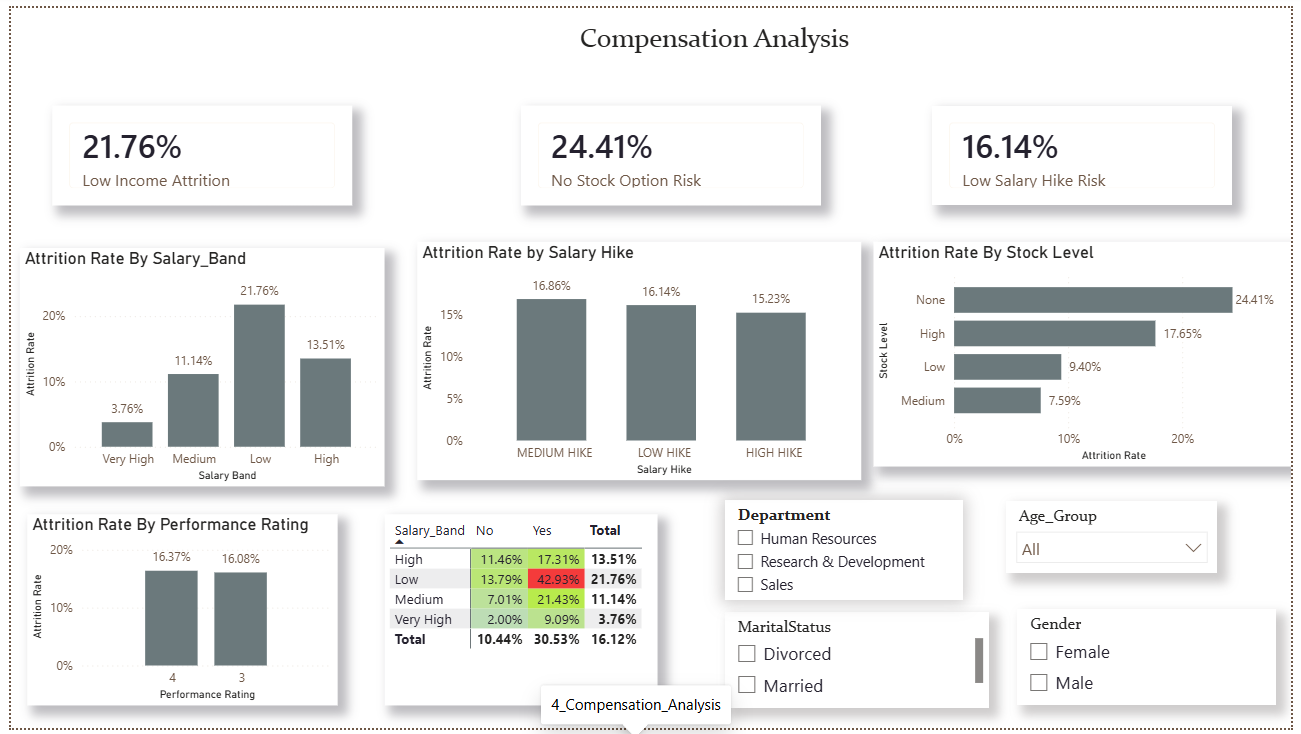

Layout of this report page (visuals, bound fields, positions):
{"tool":"powerbi","page":{"name":"4_Compensation_Analysis","canvas":[1280,720],"ordinal":3},"visuals":[{"type":"cardVisual","fields":{"Data":["Fact_Attrition.Low Income Attrition"]},"box":[41.2,97.5,300,100],"z":0},{"type":"cardVisual","fields":{"Data":["Fact_Attrition.No Stock Option Risk"]},"box":[510,97.5,300,100],"z":1000},{"type":"cardVisual","fields":{"Data":["Fact_Attrition.Low Salary Hike Risk"]},"box":[921.2,97.5,300,100],"z":2000},{"type":"clusteredColumnChart","title":"Attrition Rate By Salary_Band","fields":{"Category":["Dim_Compensation.Salary_Band"],"Y":["Fact_Attrition.Attrition_Rate"]},"box":[8.8,240,365,238.8],"z":3000},{"type":"clusteredColumnChart","title":"Attrition Rate by Salary Hike","fields":{"Category":["Dim_Compensation.Salary_Hike"],"Y":["Fact_Attrition.Attrition_Rate"]},"box":[406.2,233.8,443.8,238.8],"z":4000},{"type":"clusteredBarChart","title":"Attrition Rate By Stock Level","fields":{"Category":["Dim_Compensation.StockOption_Level_Name"],"Y":["Fact_Attrition.Attrition_Rate"]},"box":[862.5,233.8,417.5,225],"z":5000},{"type":"pivotTable","fields":{"Rows":["Dim_Compensation.Salary_Band"],"Columns":["Dim_Job.OverTime"],"Values":["Fact_Attrition.Attrition_Rate"]},"box":[373.8,506.2,272.5,191.2],"z":6000},{"type":"columnChart","title":"Attrition Rate By Performance Rating","fields":{"Category":["Dim_Compensation.PerformanceRating"],"Y":["Fact_Attrition.Attrition_Rate"]},"box":[16.2,506.2,310,191.2],"z":7000},{"type":"slicer","fields":{"Values":["Dim_Job.Department"]},"box":[713.8,492.5,238.8,100],"z":8000},{"type":"slicer","fields":{"Values":["Dim_Employee.Gender"]},"box":[1006.2,601.2,258.8,96.2],"z":9000},{"type":"slicer","fields":{"Values":["Dim_Employee.Age_Group"]},"box":[995,492.5,211.2,72.5],"z":10000},{"type":"slicer","fields":{"Values":["Dim_Employee.MaritalStatus"]},"box":[713.8,603.8,263.8,96.2],"z":11000},{"type":"textbox","box":[563.8,8.8,321.2,45],"z":12000}]}

Visuals, with their boxes in screenshot pixels (x1, y1, x2, y2), scaled from the page's 1280x720 canvas onto the 1301x734 screenshot:
cardVisual - Fact_Attrition.Low Income Attrition: <bbox>42, 99, 347, 201</bbox>
cardVisual - Fact_Attrition.No Stock Option Risk: <bbox>518, 99, 823, 201</bbox>
cardVisual - Fact_Attrition.Low Salary Hike Risk: <bbox>936, 99, 1241, 201</bbox>
"Attrition Rate By Salary_Band" clusteredColumnChart: <bbox>9, 245, 380, 488</bbox>
"Attrition Rate by Salary Hike" clusteredColumnChart: <bbox>413, 238, 864, 482</bbox>
"Attrition Rate By Stock Level" clusteredBarChart: <bbox>877, 238, 1300, 468</bbox>
pivotTable - Dim_Compensation.Salary_Band x Dim_Job.OverTime: <bbox>380, 516, 657, 711</bbox>
"Attrition Rate By Performance Rating" columnChart: <bbox>16, 516, 332, 711</bbox>
slicer - Dim_Job.Department: <bbox>726, 502, 968, 604</bbox>
slicer - Dim_Employee.Gender: <bbox>1023, 613, 1286, 711</bbox>
slicer - Dim_Employee.Age_Group: <bbox>1011, 502, 1226, 576</bbox>
slicer - Dim_Employee.MaritalStatus: <bbox>726, 616, 994, 714</bbox>
textbox: <bbox>573, 9, 900, 55</bbox>
